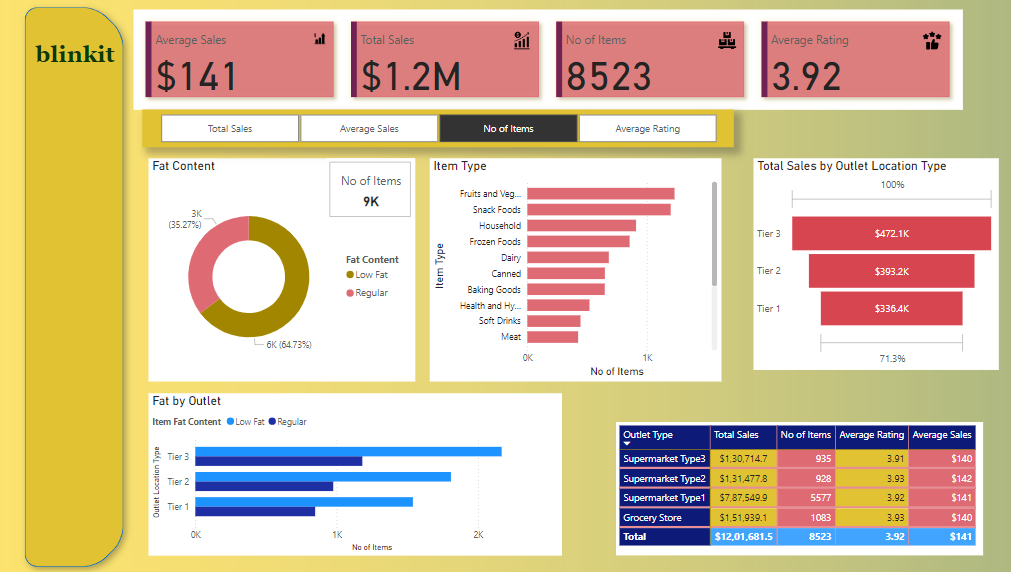

The dashboard page shown, as its layout file describes it:
{"tool":"powerbi","page":{"name":"Page 1","canvas":[1400,800],"ordinal":0},"visuals":[{"type":"shape","box":[26,0,164,800],"z":0},{"type":"textbox","box":[36,56,146,64],"z":1},{"type":"cardVisual","fields":{"Data":["BlinkIT Grocery Data.Average Sales","BlinkIT Grocery Data.Total Sales","BlinkIT Grocery Data.No of Items","BlinkIT Grocery Data.Average Rating"]},"box":[190,18,1144,138],"z":2},{"type":"donutChart","title":"Fat Content","fields":{"Category":["BlinkIT Grocery Data.Item Fat Content"],"Y":["BlinkIT Grocery Data.No of Items"]},"box":[210,222,368,308],"z":3},{"type":"slicer","fields":{"Values":["Metrics.Metrics"]},"box":[202,156,816,52],"z":4},{"type":"cardVisual","fields":{"Data":["BlinkIT Grocery Data.No of Items"]},"box":[456,222,122,86],"z":5},{"type":"clusteredBarChart","title":"Fat by Outlet","fields":{"Y":["BlinkIT Grocery Data.No of Items"],"Category":["BlinkIT Grocery Data.Outlet Location Type"],"Series":["BlinkIT Grocery Data.Item Fat Content"]},"box":[210,546,570,224],"z":6},{"type":"clusteredBarChart","title":"Item Type","fields":{"Category":["BlinkIT Grocery Data.Item Type"],"Y":["BlinkIT Grocery Data.No of Items"]},"box":[598,222,402,308],"z":7},{"type":"funnel","fields":{"Y":["BlinkIT Grocery Data.Total Sales"],"Category":["BlinkIT Grocery Data.Outlet Location Type"]},"box":[1044,222,338,292],"z":8},{"type":"pivotTable","fields":{"Rows":["BlinkIT Grocery Data.Outlet Type"],"Values":["BlinkIT Grocery Data.Total Sales","BlinkIT Grocery Data.No of Items","BlinkIT Grocery Data.Average Rating","BlinkIT Grocery Data.Average Sales"]},"box":[856,586,506,184],"z":9}]}

Visuals, with their boxes in screenshot pixels (x1, y1, x2, y2), scaled from the page's 1400x800 canvas onto the 1011x572 screenshot:
shape: 19/0/137/571
textbox: 26/40/131/86
cardVisual - BlinkIT Grocery Data.Average Sales x BlinkIT Grocery Data.Total Sales: 137/13/963/112
"Fat Content" donutChart: 152/159/417/379
slicer - Metrics.Metrics: 146/112/735/149
cardVisual - BlinkIT Grocery Data.No of Items: 329/159/417/220
"Fat by Outlet" clusteredBarChart: 152/390/563/551
"Item Type" clusteredBarChart: 432/159/722/379
funnel - BlinkIT Grocery Data.Total Sales x BlinkIT Grocery Data.Outlet Location Type: 754/159/998/368
pivotTable - BlinkIT Grocery Data.Outlet Type x BlinkIT Grocery Data.Total Sales: 618/419/984/551
